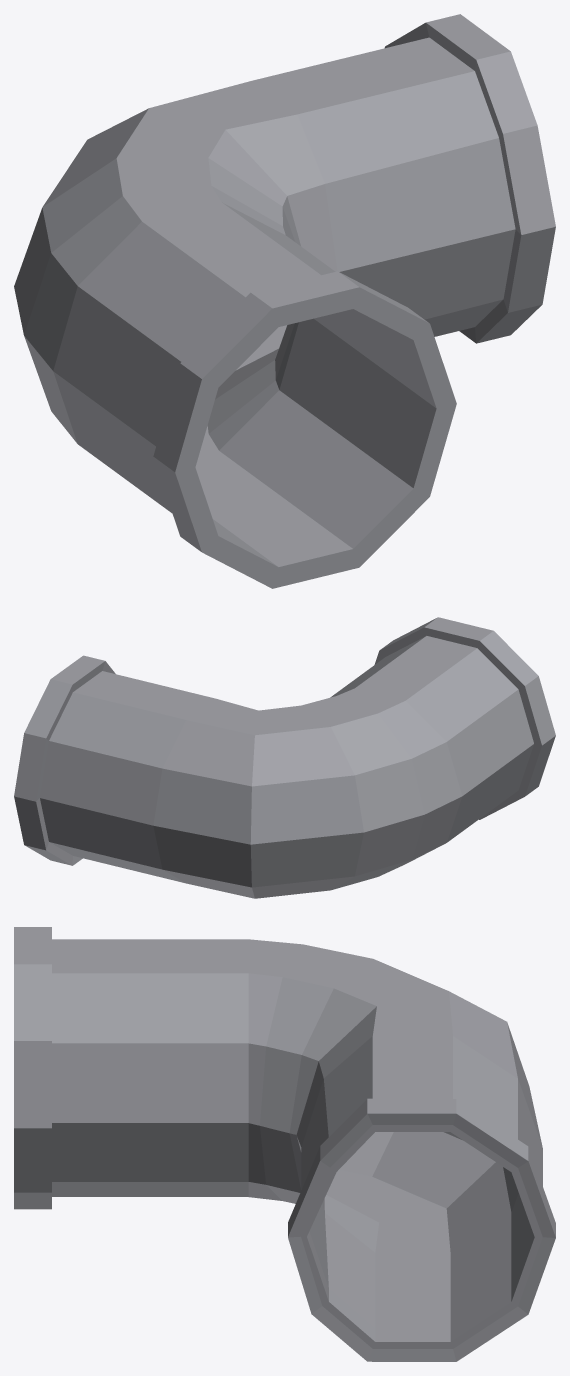
File: TuberiaGrande_CurvaJunta.fbx
3 views of the same model, one above another, from view 1: azimuth 30°, elevation 25°; view 2: azimuth 150°, elevation 25°; view 3: azimuth 270°, elevation 25° (orthographic). The views are drawn at different scales.
Parts seen in each view (by area): view 1: TuberiaGrande_CurvaCompleta; view 2: TuberiaGrande_CurvaCompleta; view 3: TuberiaGrande_CurvaCompleta.
Part boxes in pixels (x1,y1,x2,y2): TuberiaGrande_CurvaCompleta: (14,14,555,588); TuberiaGrande_CurvaCompleta: (14,617,555,898); TuberiaGrande_CurvaCompleta: (14,927,555,1361).
Bounding box in the file's own units: 11.66 × 5.87 × 11.61.
